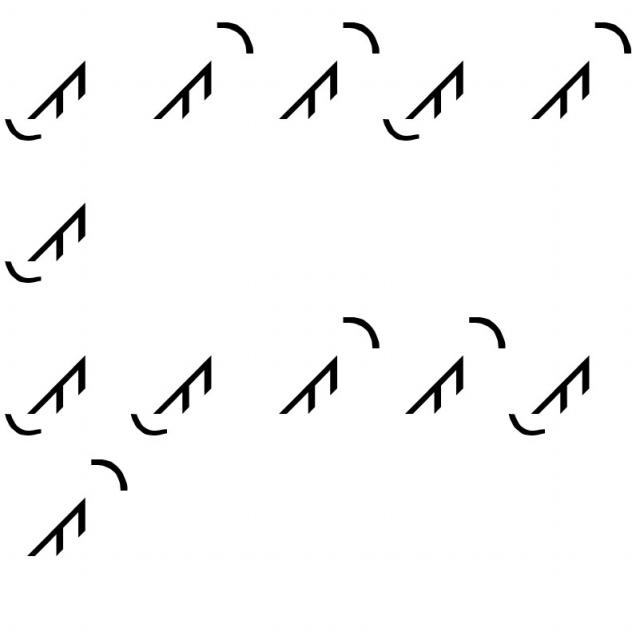kaw: (508, 332, 599, 443), (4, 51, 95, 158), (119, 344, 218, 438), (384, 52, 474, 153), (1, 343, 92, 442), (5, 201, 95, 288)
kay: (272, 295, 383, 422), (22, 452, 131, 581), (404, 297, 506, 433), (143, 13, 255, 133), (276, 10, 382, 127), (526, 15, 634, 129)
